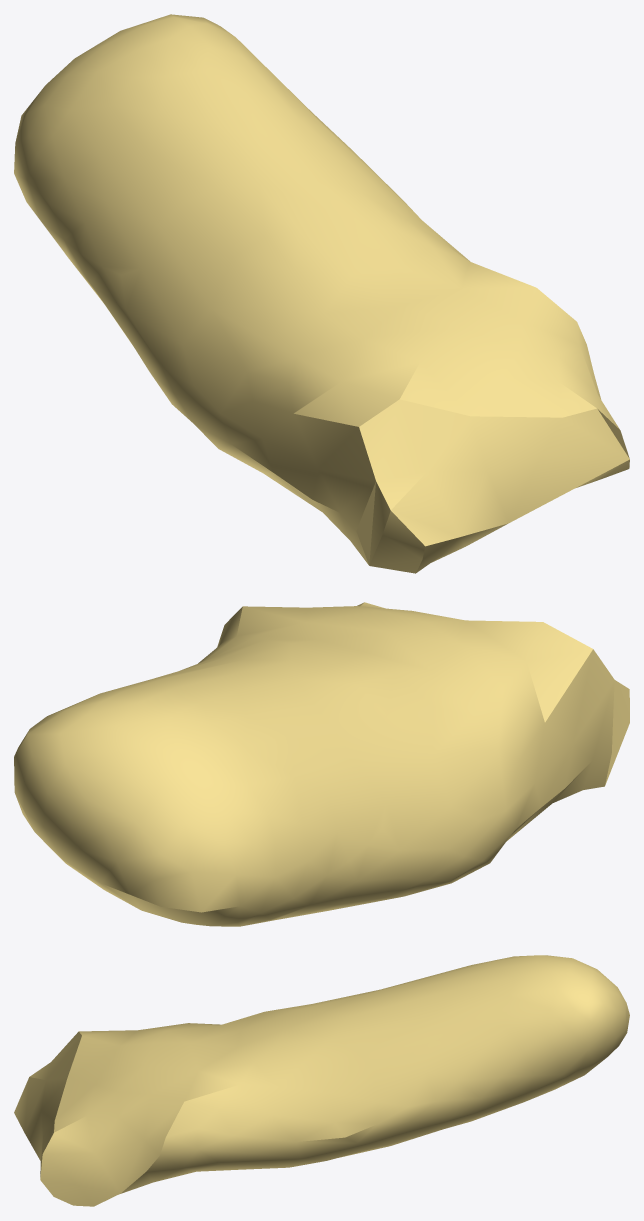
Rendered from fma323280-r_mm2997m.glb.
3 views of the same model, one above another, from view 1: azimuth 30°, elevation 25°; view 2: azimuth 150°, elevation 25°; view 3: azimuth 270°, elevation 25° (orthographic). The views are drawn at different scales.
Parts seen in each view (by area): view 1: FMA323280-R_MM2997M; view 2: FMA323280-R_MM2997M; view 3: FMA323280-R_MM2997M.
Part boxes in pixels (x1,y1,x2,y2): FMA323280-R_MM2997M: (14, 14, 629, 573); FMA323280-R_MM2997M: (14, 602, 629, 926); FMA323280-R_MM2997M: (14, 955, 629, 1206).
Bounding box in the file's own units: 0.00276 × 0.0024 × 0.0061.
